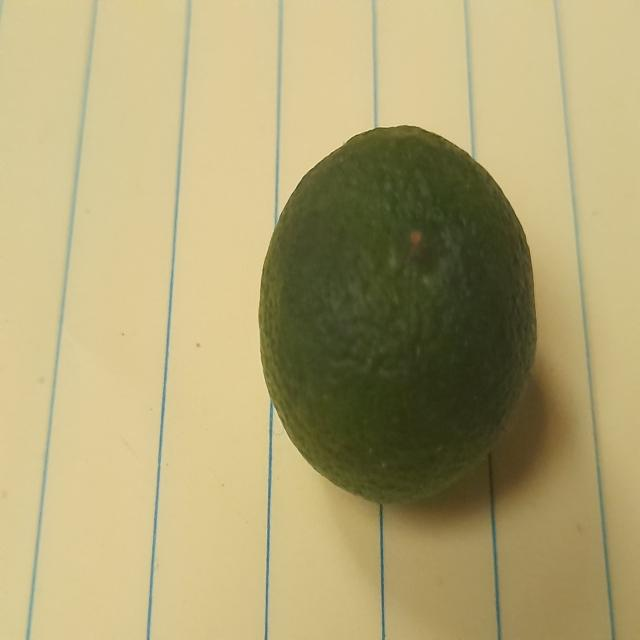heathy: (253, 115, 544, 522)
